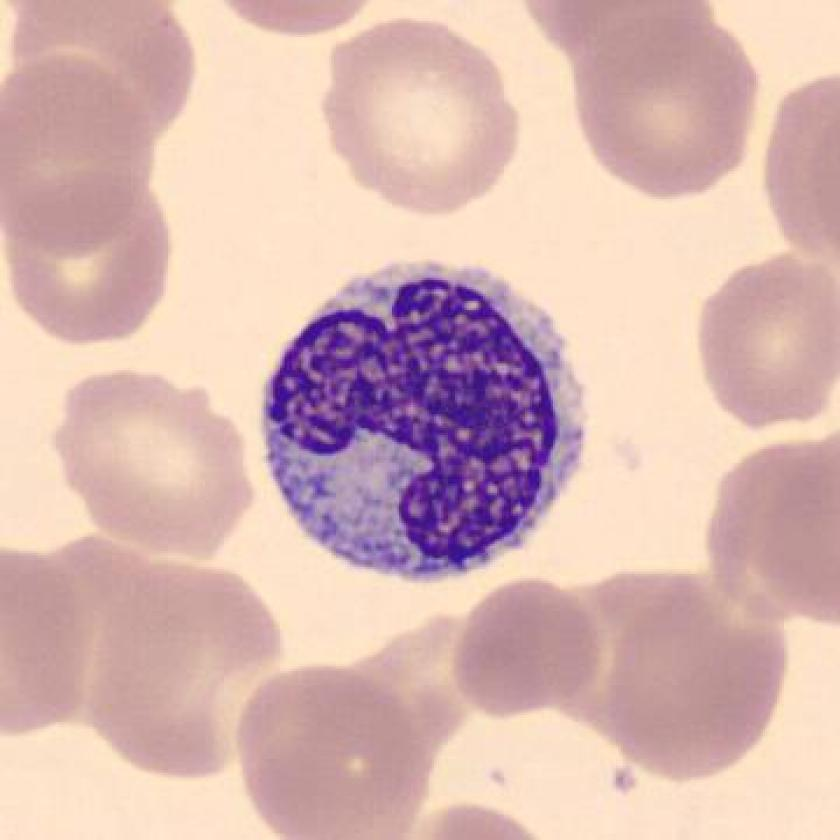monocyte: (244, 239, 615, 612)
